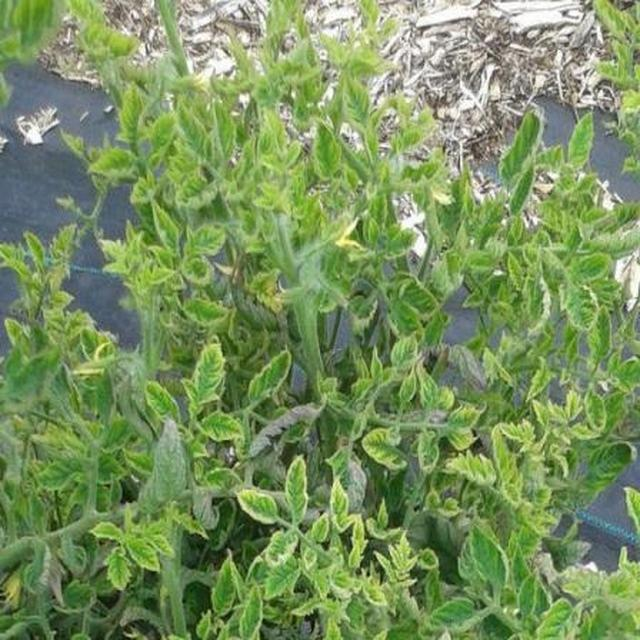Yellow Leaf Curl Virus: (26, 46, 640, 640)
